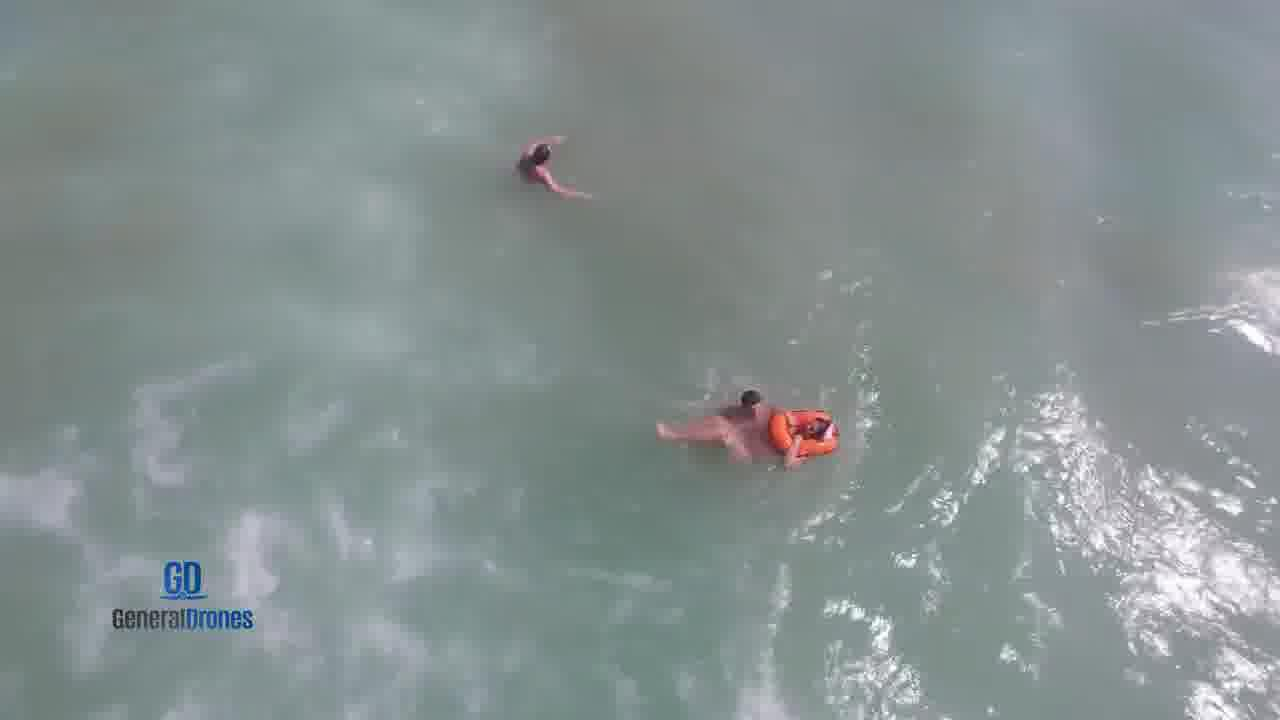swimmer: (659, 409, 839, 464), (508, 122, 595, 201), (716, 377, 790, 422)
